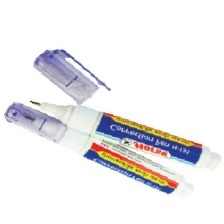correction_fluid: (3, 102, 194, 197), (27, 97, 222, 170)
